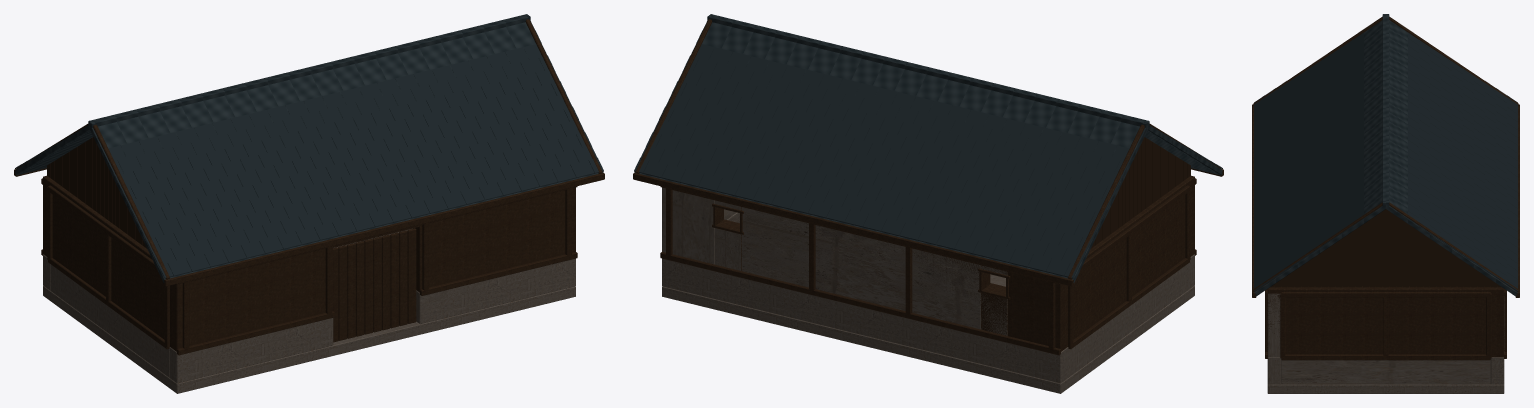
The model's file is s_stables.glb.
3 renders of one model, left to right at view 1: azimuth 30°, elevation 25°; view 2: azimuth 150°, elevation 25°; view 3: azimuth 270°, elevation 25°, orthographic. The views are drawn at different scales.
Parts seen in each view (by area): view 1: slate roof, front timber, stable floor, Door plank.003, Door plank.009, Door plank, Door plank.005, Door plank.006, Door plank.002, Door plank.007, Door plank.008, Door plank.001 (+2 smaller); view 2: slate roof, front timber, stable floor, rear timber-colonly.003, rear timber-colonly.006, rear timber-colonly.004, rear timber-colonly.001; view 3: slate roof, front timber, side masonry-colonly.001, stable floor, front timber-colonly.001, front masonry-colonly.001.
Part boxes in pixels (x1,y1,x2,y2): slate roof: [14, 14, 603, 282]; front timber: [14, 19, 604, 355]; stable floor: [43, 228, 575, 393]; Door plank.003: [338, 245, 347, 340]; Door plank.009: [407, 228, 416, 323]; Door plank: [364, 239, 373, 334]; Door plank.005: [372, 236, 381, 332]; Door plank.006: [381, 234, 390, 330]; Door plank.002: [346, 243, 355, 338]; Door plank.007: [390, 232, 398, 328]; Door plank.008: [398, 230, 407, 325]; Door plank.001: [355, 241, 364, 336]; slate roof: [634, 14, 1222, 282]; front timber: [633, 19, 1223, 355]; stable floor: [662, 217, 1194, 393]; rear timber-colonly.003: [741, 207, 981, 329]; rear timber-colonly.006: [662, 187, 714, 264]; rear timber-colonly.004: [715, 228, 741, 270]; rear timber-colonly.001: [981, 294, 1007, 335]; slate roof: [1254, 14, 1517, 296]; front timber: [1252, 16, 1519, 360]; side masonry-colonly.001: [1281, 360, 1490, 384]; stable floor: [1267, 357, 1504, 393]; front timber-colonly.001: [1267, 293, 1280, 357]; front masonry-colonly.001: [1267, 357, 1281, 384].
Size of what is drawn, in the model's own units: 13.2 by 6.54 by 7.92.
3 materials, 3 textured.
